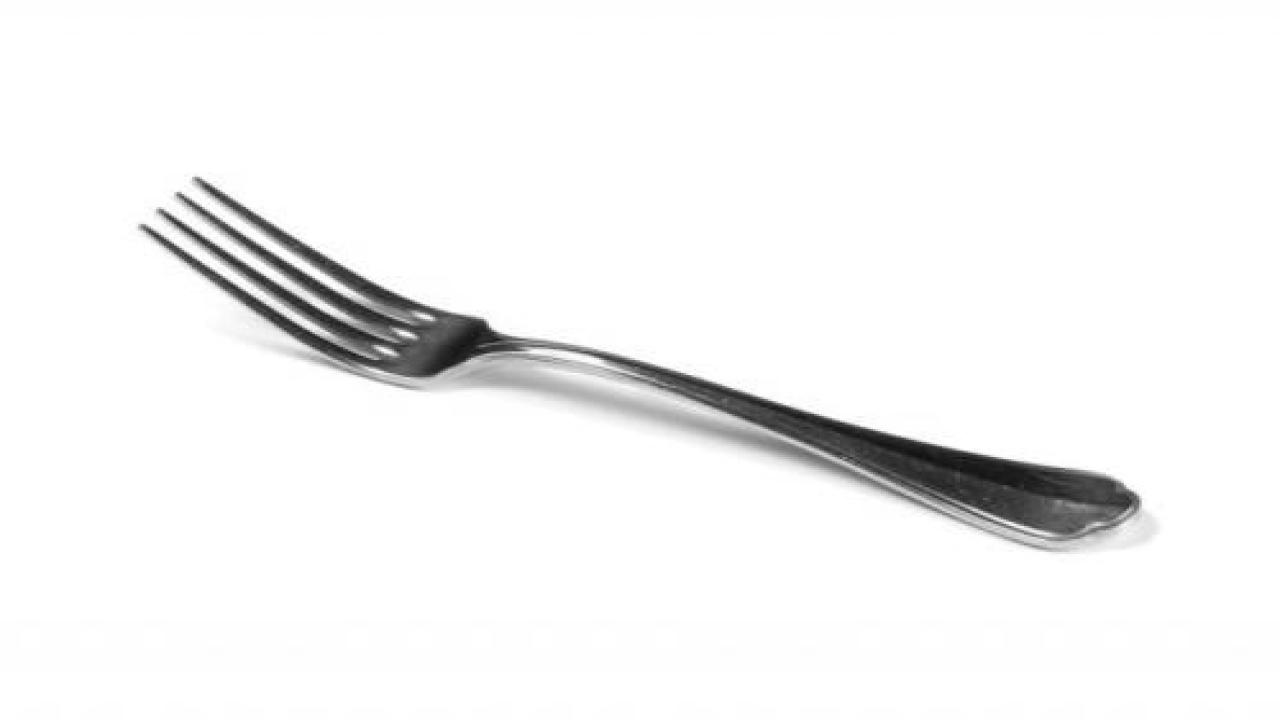fork: (136, 172, 1142, 548)
